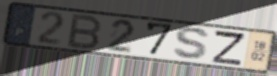2: (105, 18, 137, 56), (36, 10, 66, 47)
7: (145, 20, 174, 58)
B: (65, 13, 105, 51)
S: (171, 26, 213, 62)
Z: (211, 29, 247, 67)
